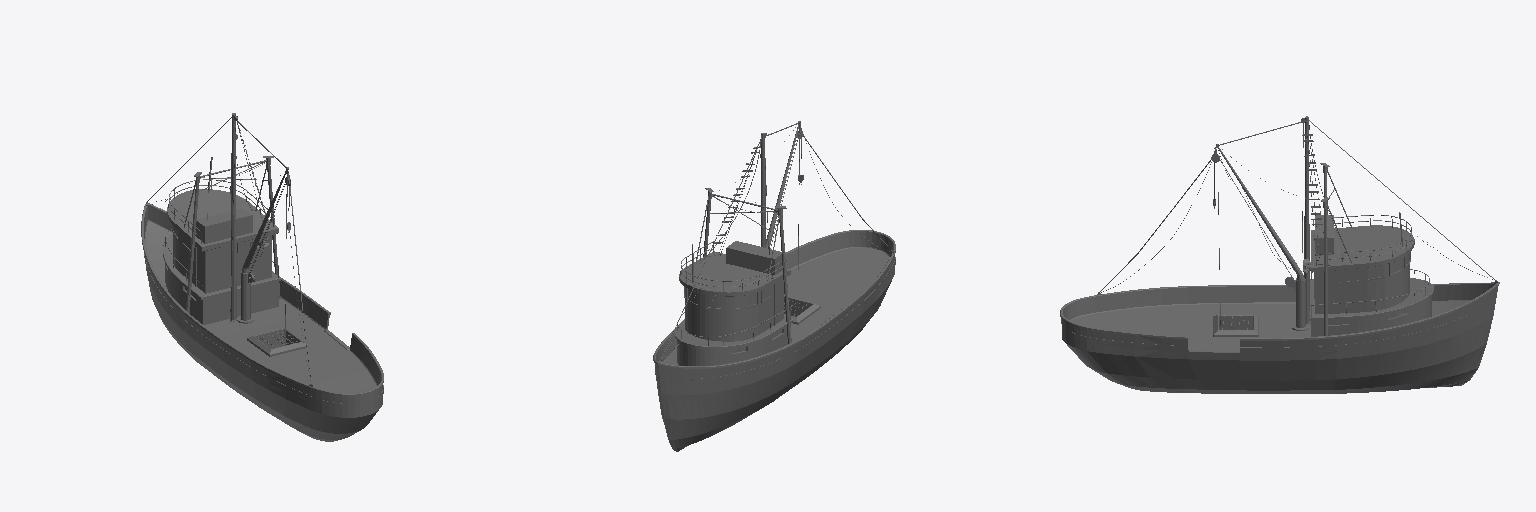
Rendered from fishing_boat.obj.
3 renders of one model, left to right at view 1: azimuth 30°, elevation 25°; view 2: azimuth 150°, elevation 25°; view 3: azimuth 270°, elevation 25°, orthographic.
Visible parts, largest first — view 1: (null); view 2: (null); view 3: (null).
Part boxes in pixels (x1,y1,x2,y2): (null): (141,113,383,441); (null): (653,121,895,451); (null): (1060,116,1499,393).
Size of the model in its own units: 4.04 by 9.34 by 13.85.